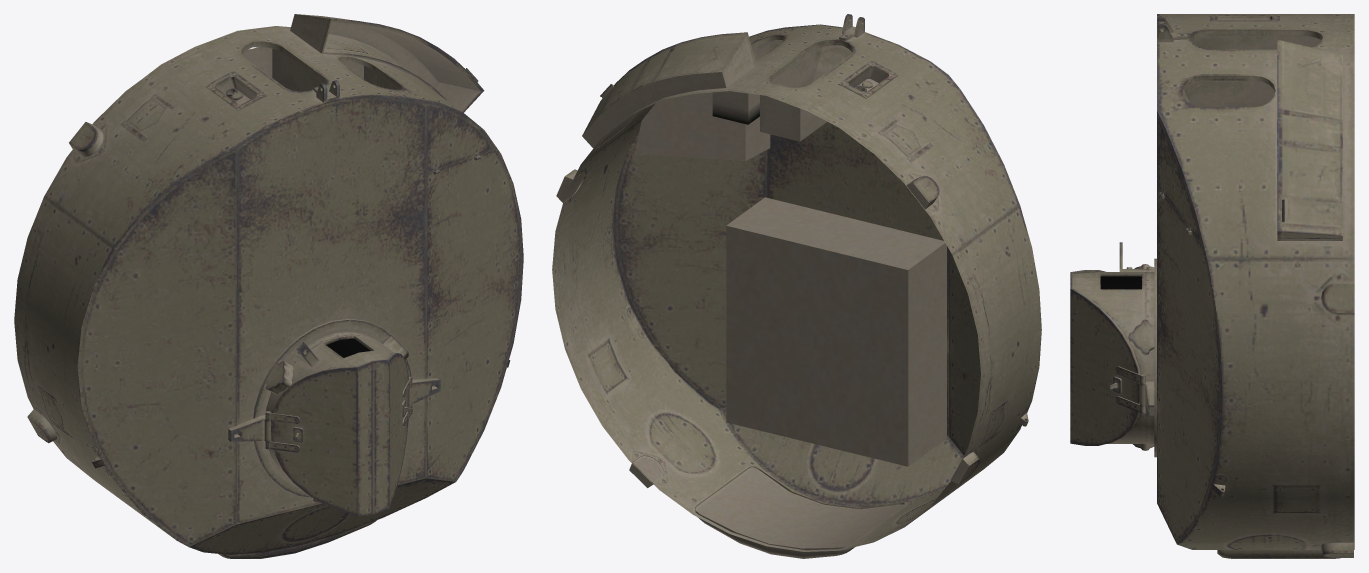
The model's file is Turret_01.glb.
3 renders of one model, left to right at view 1: azimuth 30°, elevation 25°; view 2: azimuth 150°, elevation 25°; view 3: azimuth 270°, elevation 25°, orthographic. The views are drawn at different scales.
Visible parts, largest first — view 1: set_0_group_0; view 2: set_0_group_0; view 3: set_0_group_0.
Part boxes in pixels (box(x1,y1,x2,y2)): set_0_group_0: box(14, 14, 523, 558); set_0_group_0: box(552, 14, 1041, 558); set_0_group_0: box(1070, 14, 1354, 558).
Bounding box in the file's own units: 1.96 × 2.13 × 1.03.
1 material, 1 textured.
